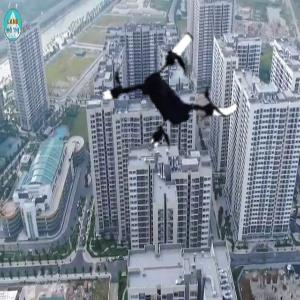drone: (105, 20, 245, 160)
